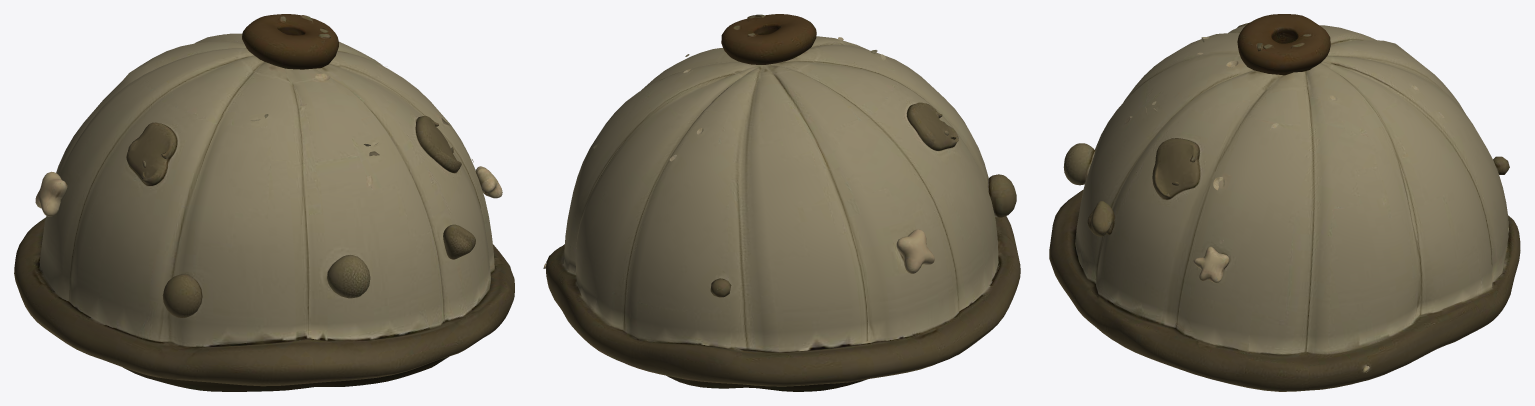
File: acc_hat_honey_pot_01.glb
3 views of the same model, side by side, from view 1: azimuth 30°, elevation 25°; view 2: azimuth 150°, elevation 25°; view 3: azimuth 270°, elevation 25° (orthographic). The views are drawn at different scales.
Visible parts, largest first — view 1: acc_hat_honey_pot_01; view 2: acc_hat_honey_pot_01; view 3: acc_hat_honey_pot_01.
Boxes of the visible parts, <box> form: acc_hat_honey_pot_01: <box>14,14,514,391</box>; acc_hat_honey_pot_01: <box>543,14,1020,391</box>; acc_hat_honey_pot_01: <box>1049,14,1520,391</box>.
Bounding box in the file's own units: 0.4126 × 0.28 × 0.4118.
1 material, 1 textured.
